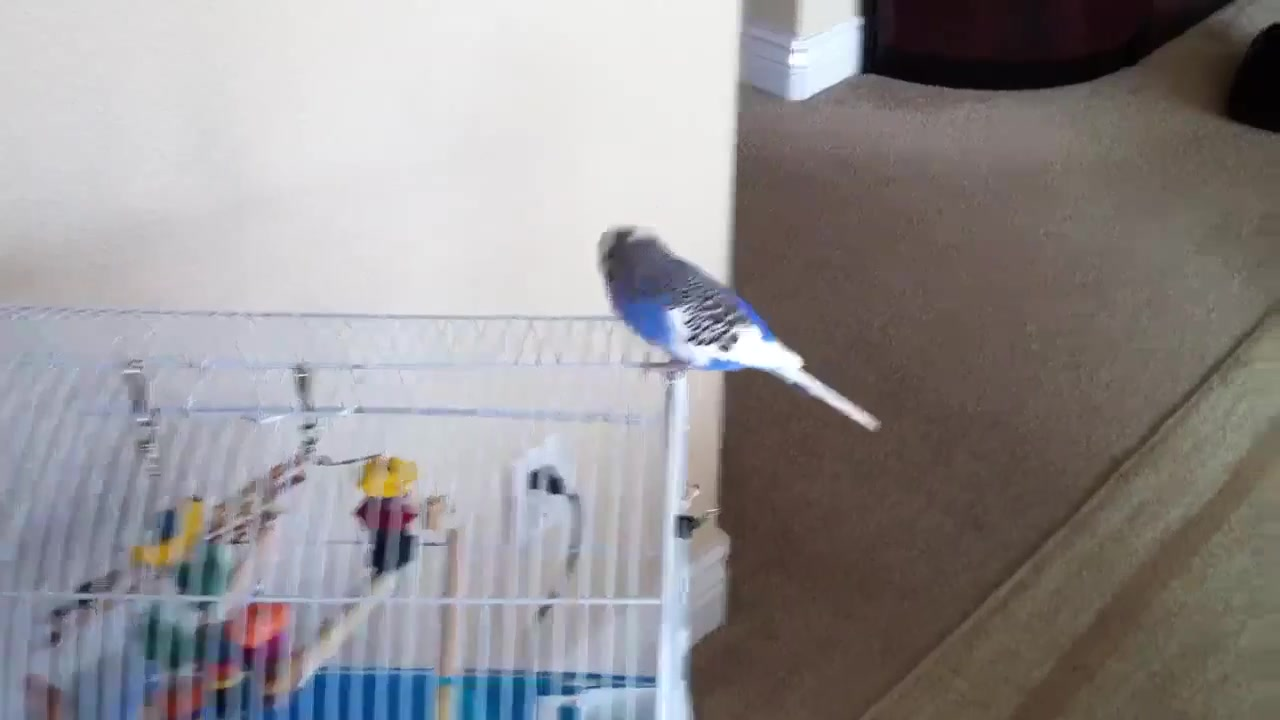bird: (597, 225, 883, 431)
